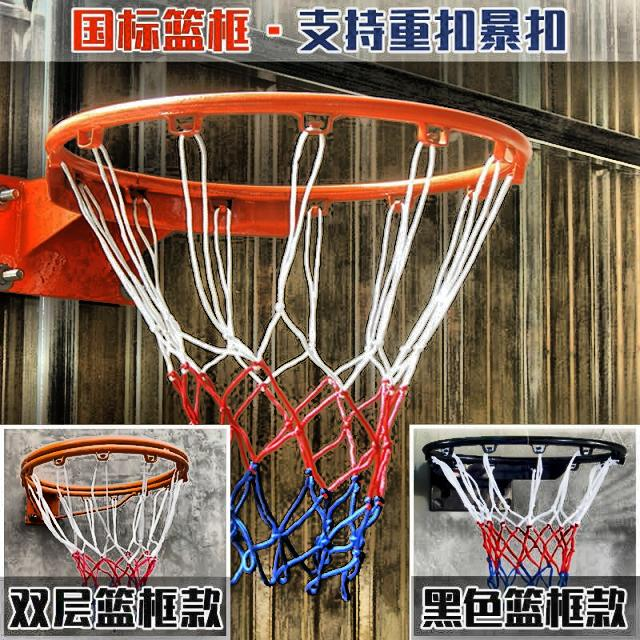rim: (44, 91, 523, 597), (424, 433, 626, 589), (22, 438, 189, 589)
